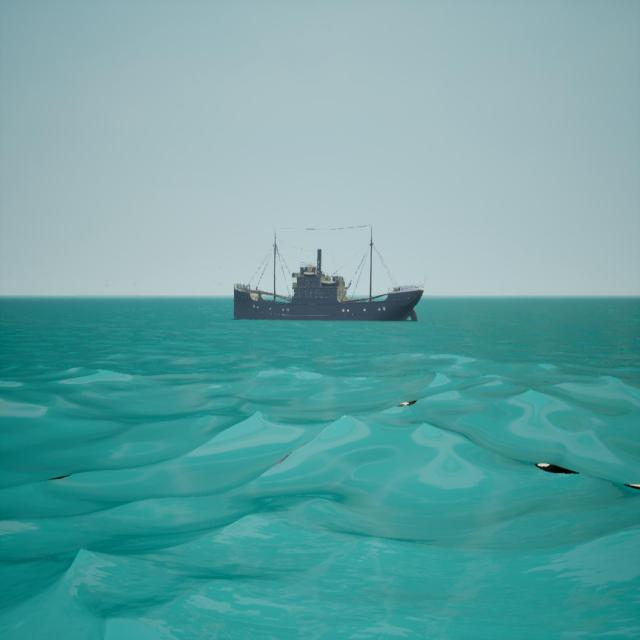fishing ship: (233, 227, 424, 323)
